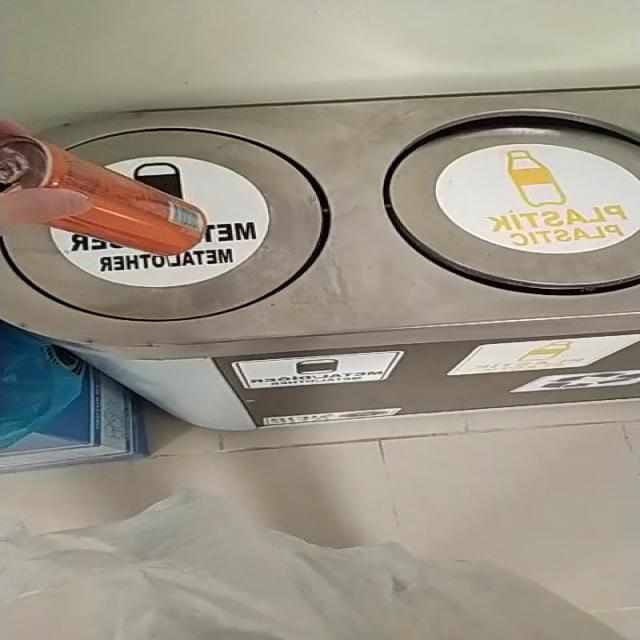bin: (0, 87, 640, 431)
metal: (0, 135, 205, 256)
